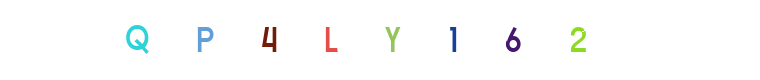1: (341, 0, 421, 80)
2: (464, 0, 544, 80)
4: (230, 0, 310, 80)
6: (452, 0, 532, 80)
L: (284, 0, 364, 80)
P: (205, 0, 285, 80)
Q: (98, 0, 178, 80)
Y: (312, 0, 392, 80)
